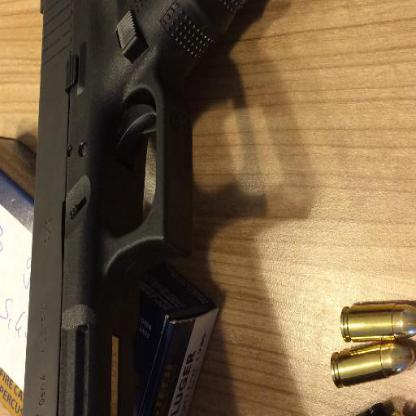gun: (15, 0, 351, 415)
